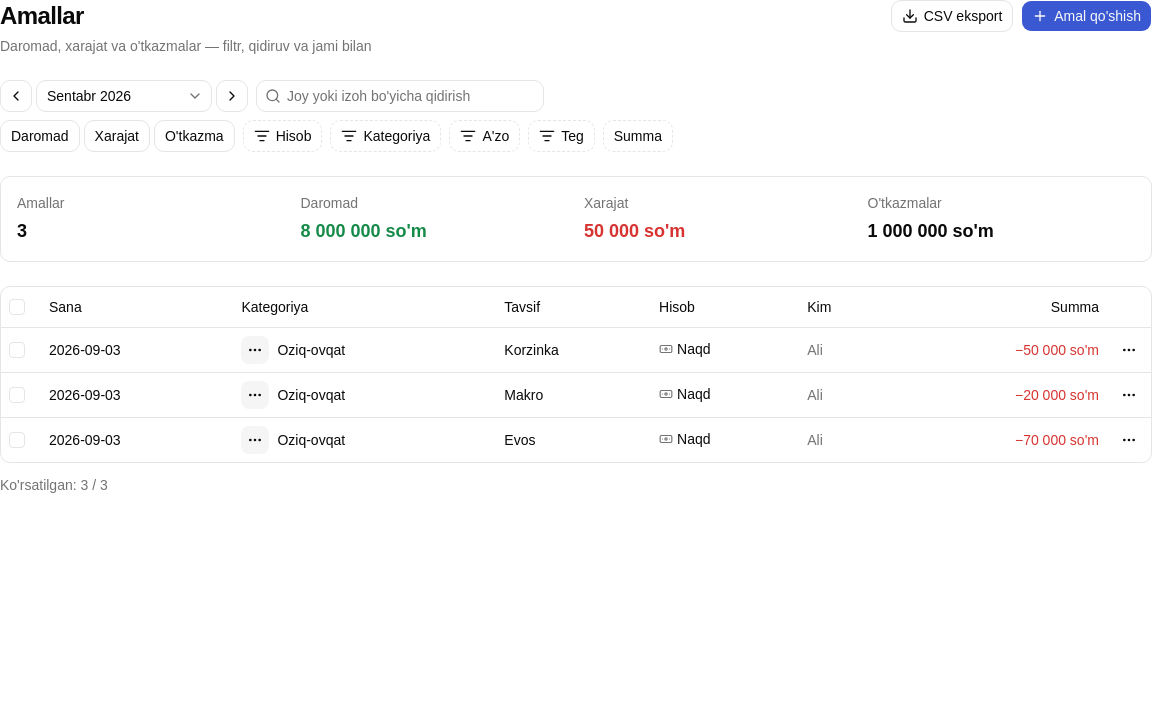
it: Ommaviy amallar va CSV (E23-T03) › kategoriya almashtirish — bitta so‘rov; o‘tkazib yuborilgani sababi bilan, tanlangan qoladi
Click the checkbox named "Tanlash: Korzinka" at (17, 350), box [9,342,25,358]
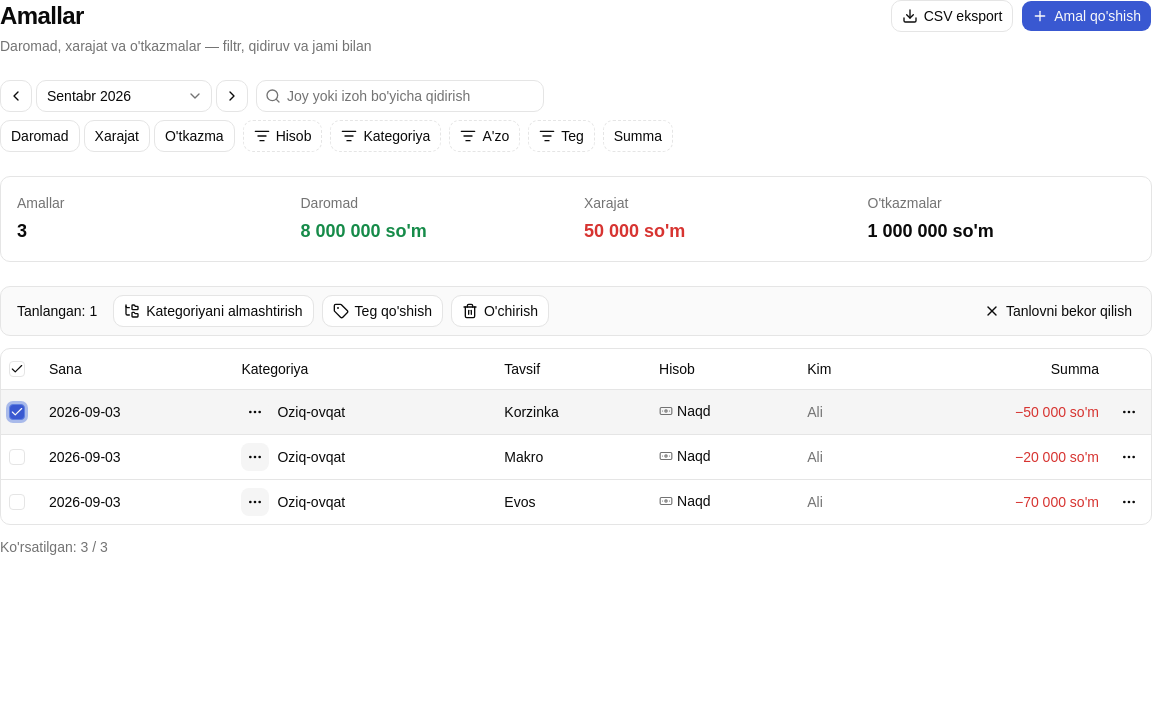
Click the checkbox named "Tanlash: Makro" at (17, 456), box [9,448,25,464]
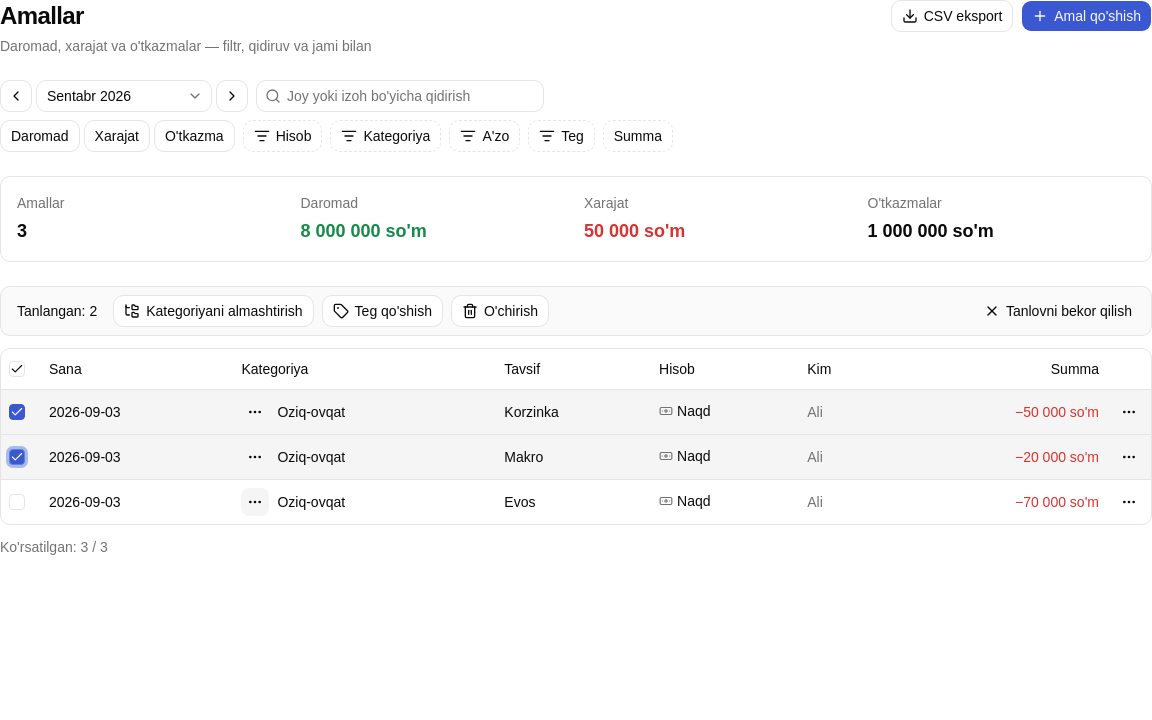
Click the button "Kategoriyani almashtirish" at (213, 311), box [113,295,314,327]
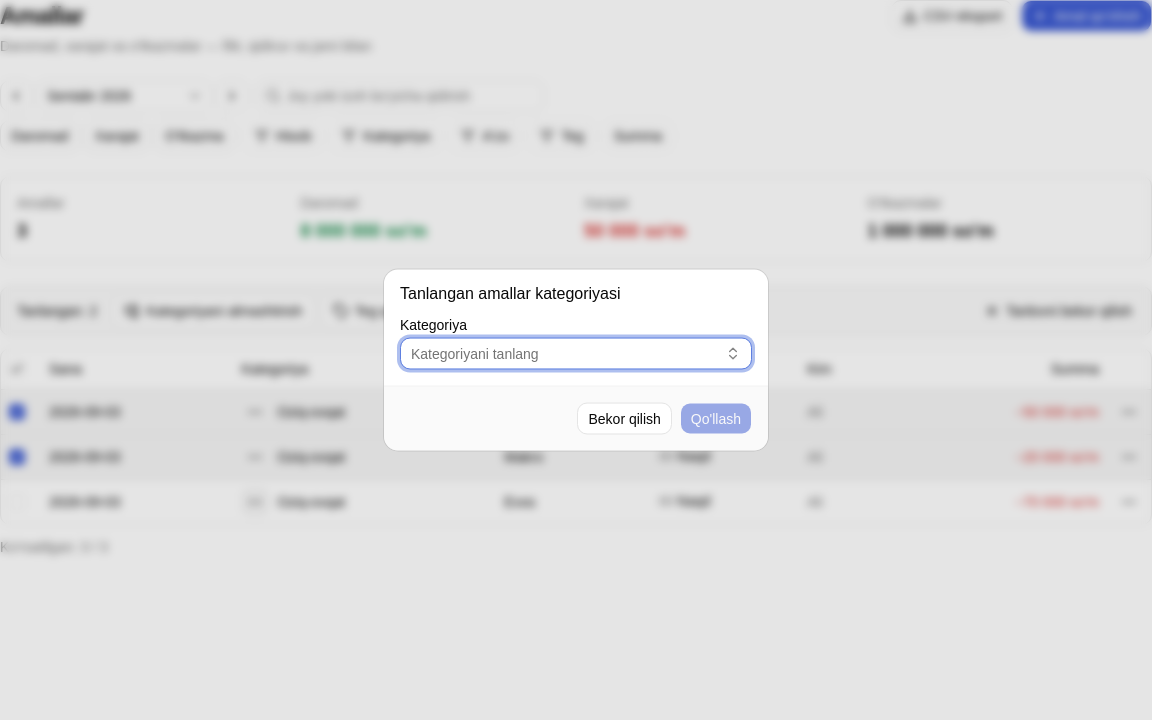
Click the dropdown labelled "Kategoriya" at (475, 354), box [400,338,752,370]
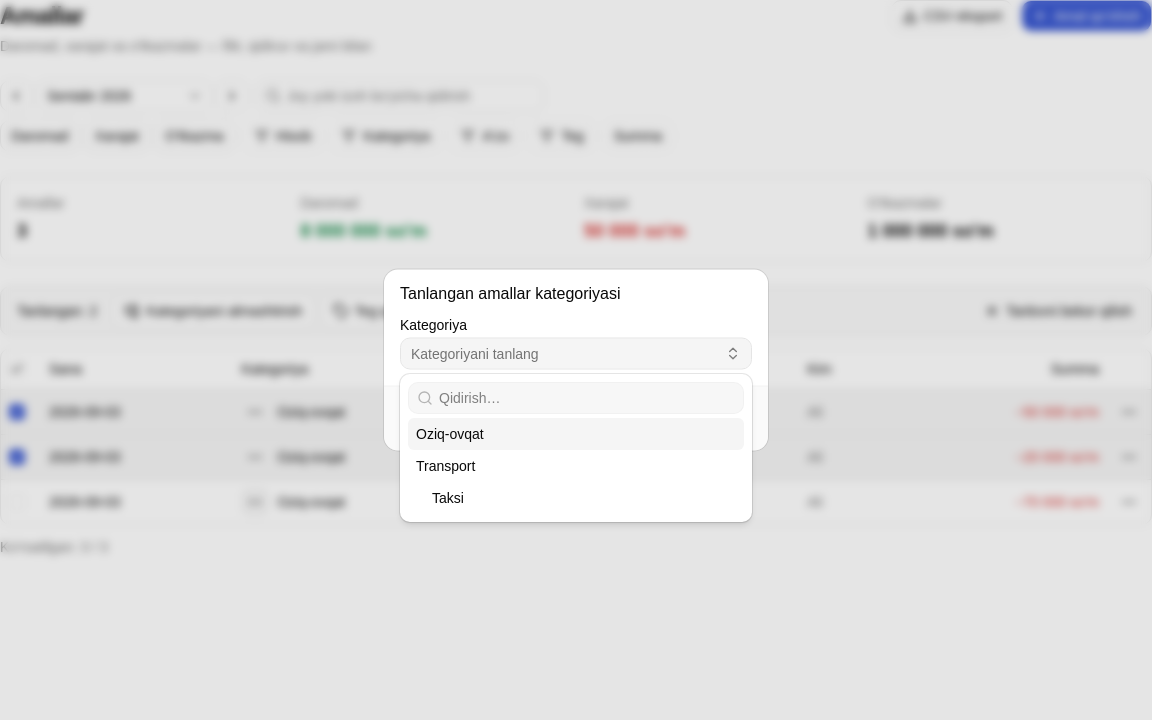
Click the option "Transport" at (446, 466), box [416,458,475,474]
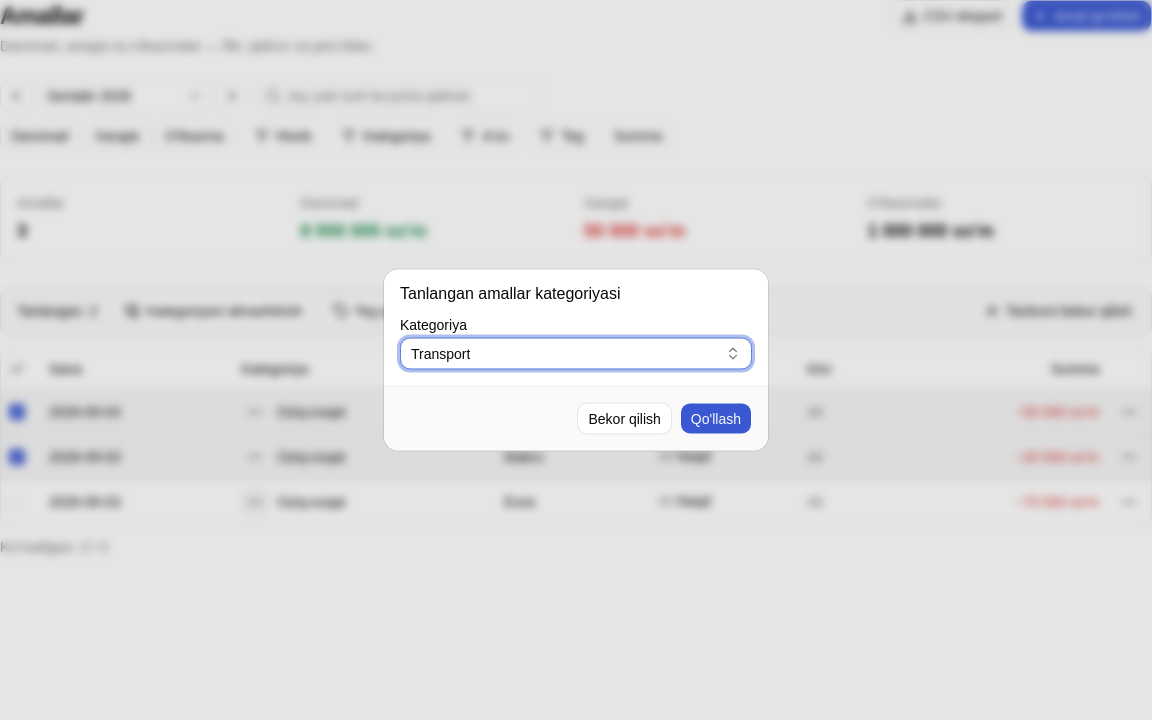
Click the button "Qo'llash" at (716, 418), box [680,402,752,434]
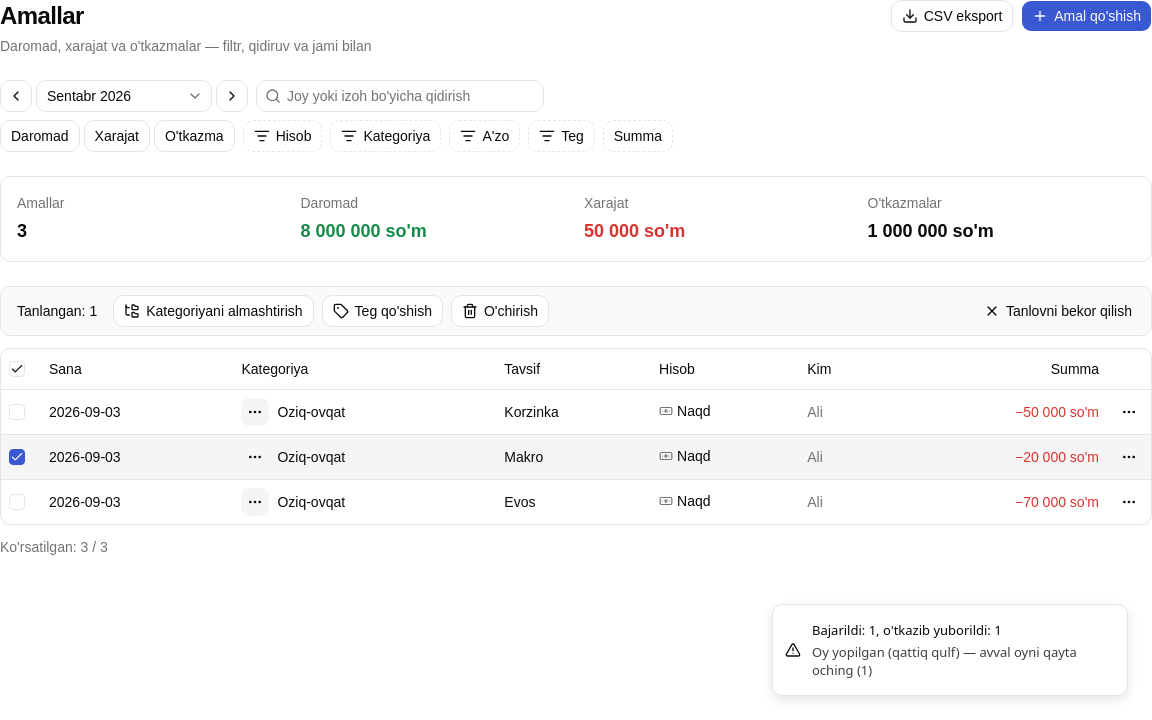
Now the text "Bajarildi: 1, o'tkazib yuborildi: 1" is shown, box [812,621,1002,639]
Now the text "Oy yopilgan (qattiq qulf) — avval oyni qayta oching (1)" is shown, box [812,643,1111,679]
Now the element "Tanlangan: 1" is shown, box [0,286,1151,336]
